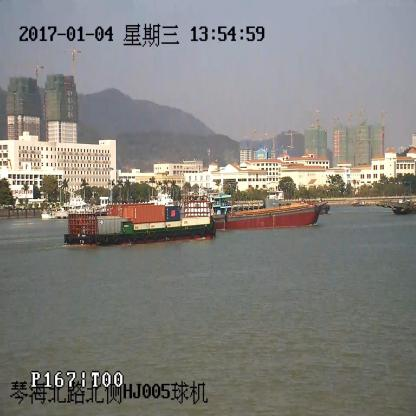Container Ship: (65, 196, 216, 245)
